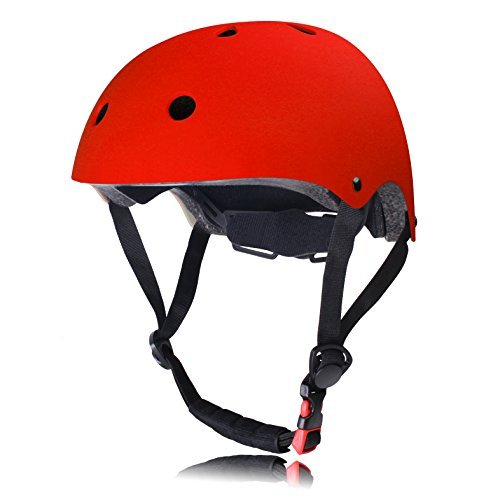elmetto: (48, 17, 454, 456)
